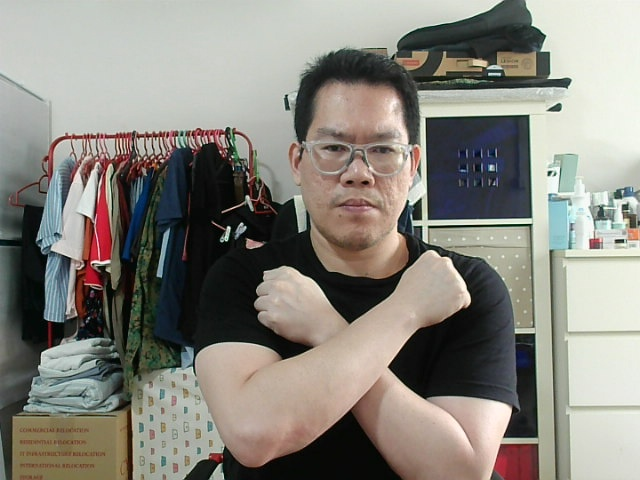love: (402, 253, 466, 308)
